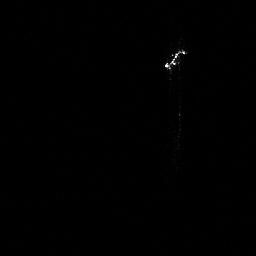ship: (164, 47, 188, 73)
